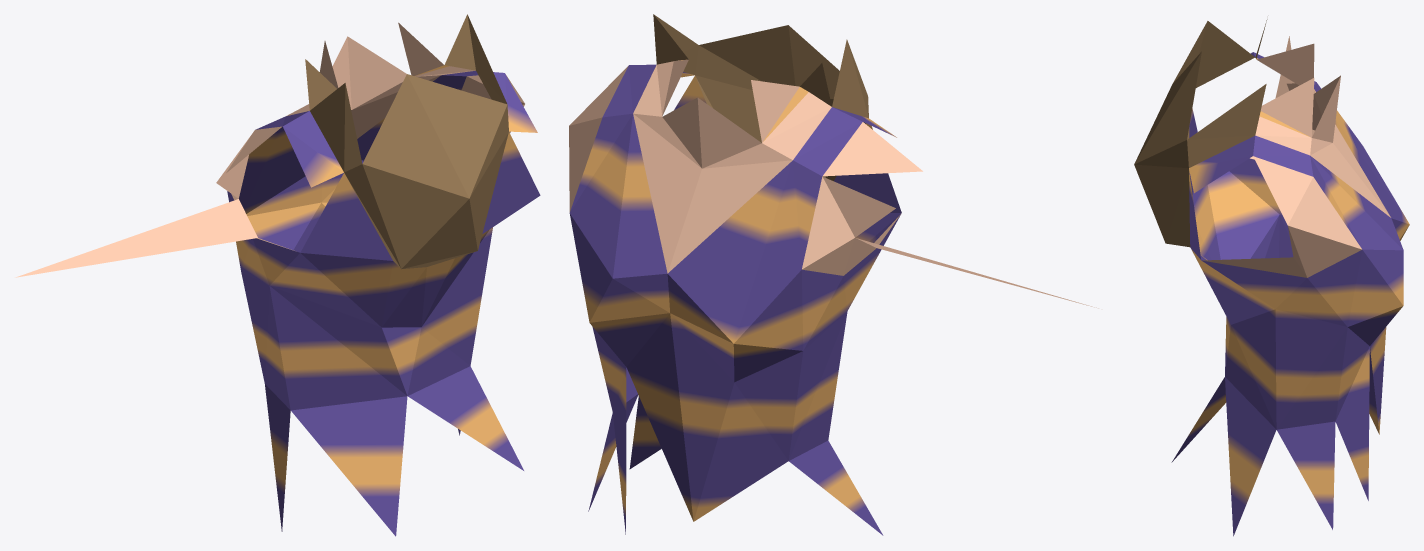
The model's file is Torso_Lo.obj.
3 views of the same model, side by side, from view 1: azimuth 30°, elevation 25°; view 2: azimuth 150°, elevation 25°; view 3: azimuth 270°, elevation 25° (orthographic). The views are drawn at different scales.
Bounding box in the file's own units: 0.7535 × 0.6466 × 0.3688.
Materials: 1 (1 with a texture image).
